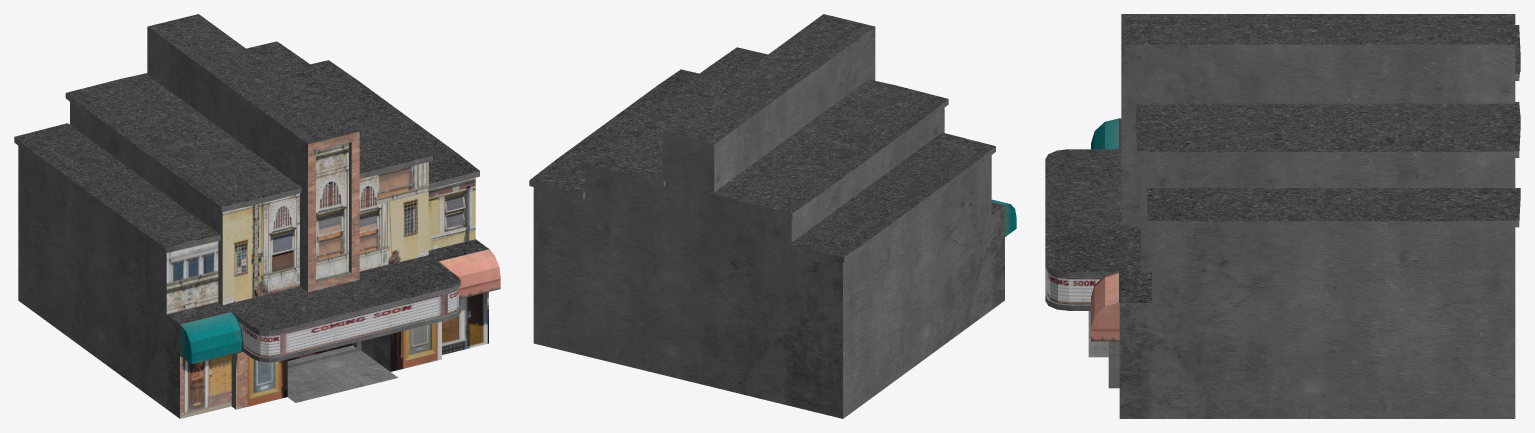
Rendered from THEATER.fbx.
The picture shows the model from 3 angles, left to right: view 1: azimuth 30°, elevation 25°; view 2: azimuth 150°, elevation 25°; view 3: azimuth 270°, elevation 25°; orthographic projection. The views are drawn at different scales.
Parts seen in each view (by area): view 1: THEATER; view 2: THEATER; view 3: THEATER.
Boxes of the visible parts, x1,y1,x2,y2 form: THEATER: (14,14,500,418); THEATER: (529,14,1016,418); THEATER: (1045,14,1520,418).
Bounding box in the file's own units: 2177 × 1594 × 2311.
